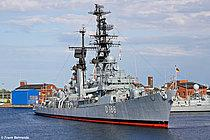MIL_Ship: (34, 3, 177, 129)
